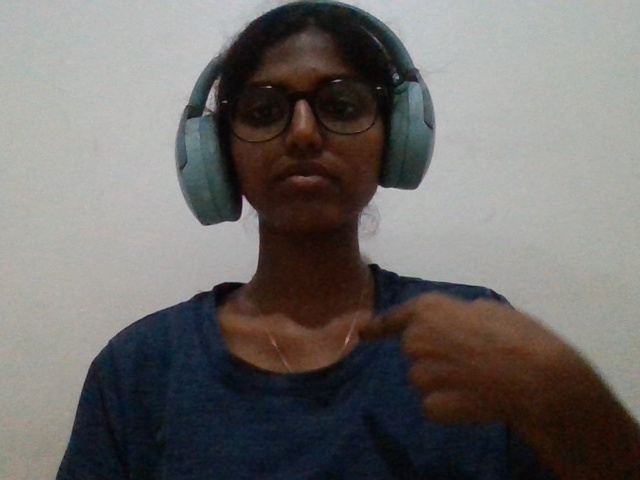Me: (318, 268, 605, 480)
